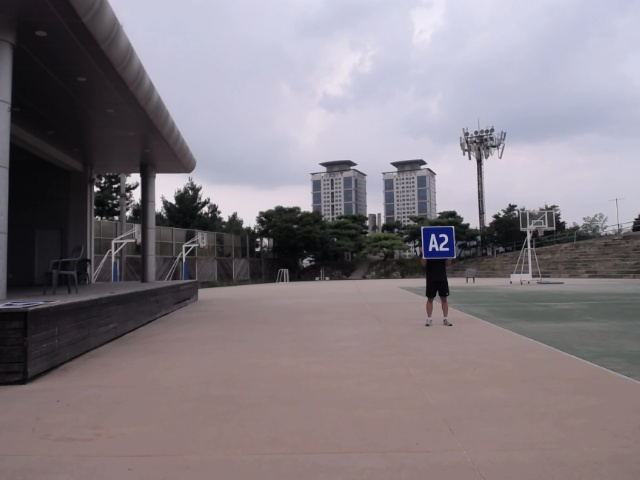delivery_a2: (422, 226, 455, 258)
